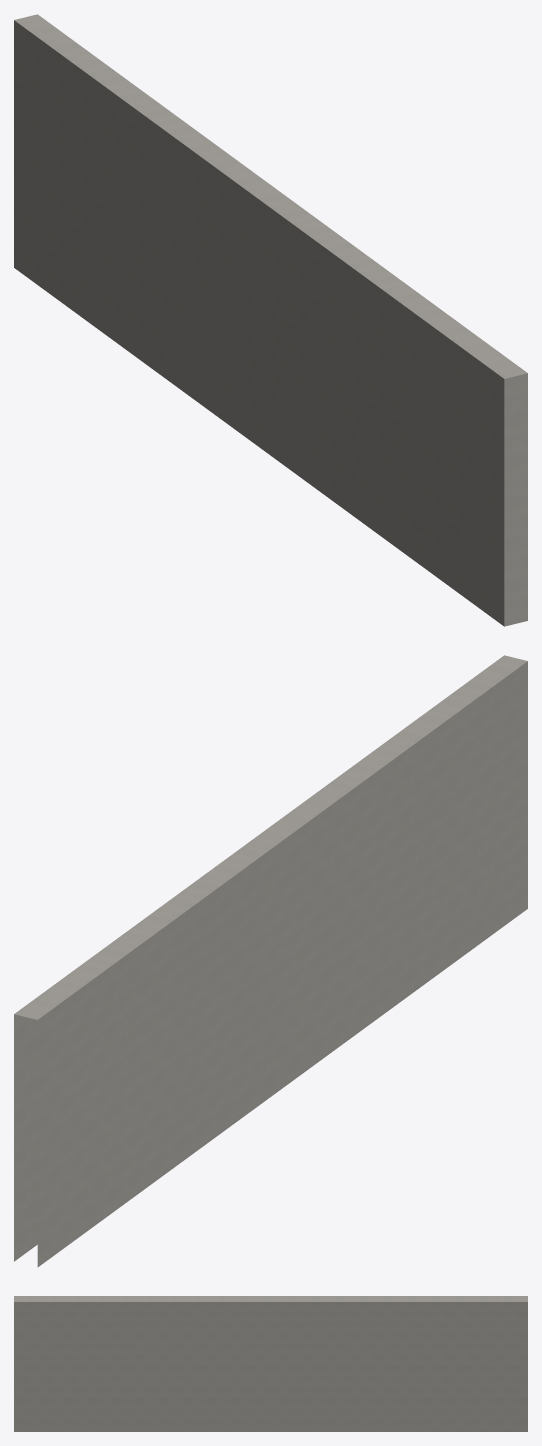
File: fstWallAA.obj
3 views of the same model, one above another, from view 1: azimuth 30°, elevation 25°; view 2: azimuth 150°, elevation 25°; view 3: azimuth 270°, elevation 25° (orthographic). The views are drawn at different scales.
Visible parts, largest first — view 1: Box011; view 2: Box011; view 3: Box011.
Part boxes in pixels (x1,y1,x2,y2): Box011: (14, 14, 527, 626); Box011: (14, 655, 527, 1267); Box011: (14, 1296, 527, 1431).
Size of the model in its own units: 11.81 by 118 by 424.
